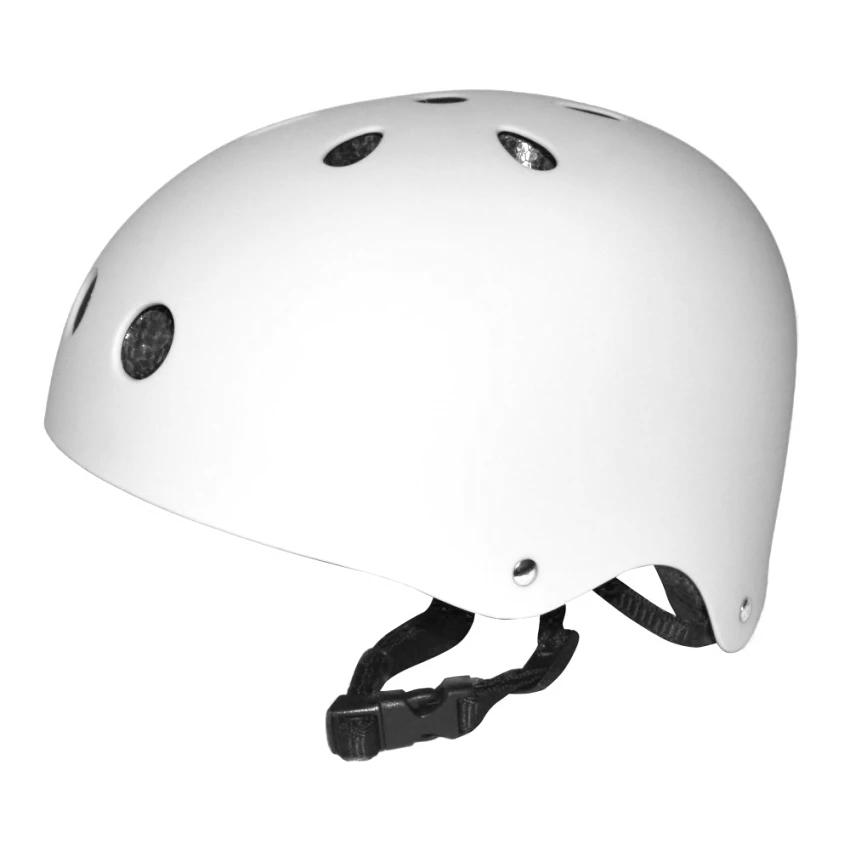with_helmet: (38, 82, 807, 676)
